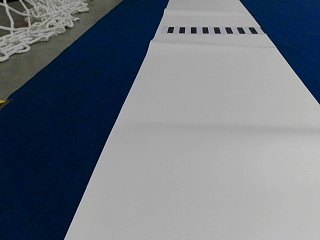crosswalk: (163, 24, 256, 34)
